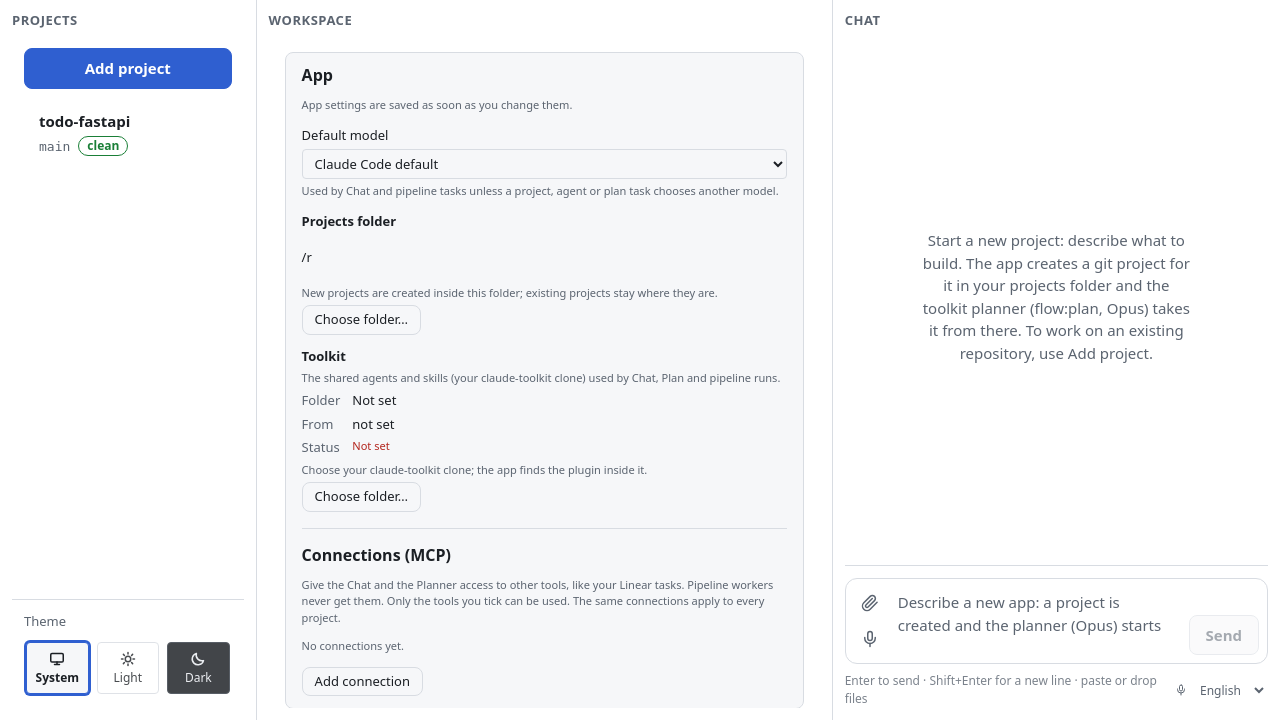
new project to planner flow › shows the latest live pipeline line on the running task
The width and height of the screenshot is (1280, 720).
Click the button "todo-fastapi main clean" at (128, 133), box [24, 101, 232, 165]
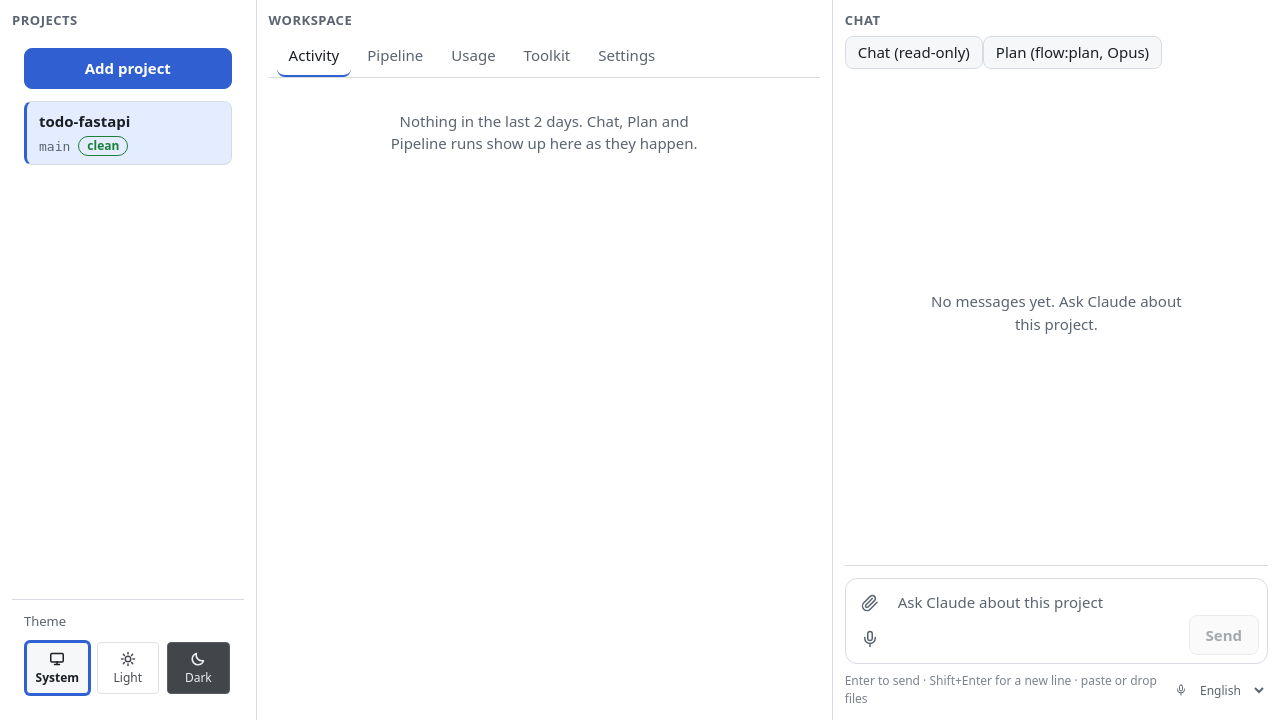
Click the tab "Pipeline" at (395, 57), box [355, 36, 435, 77]
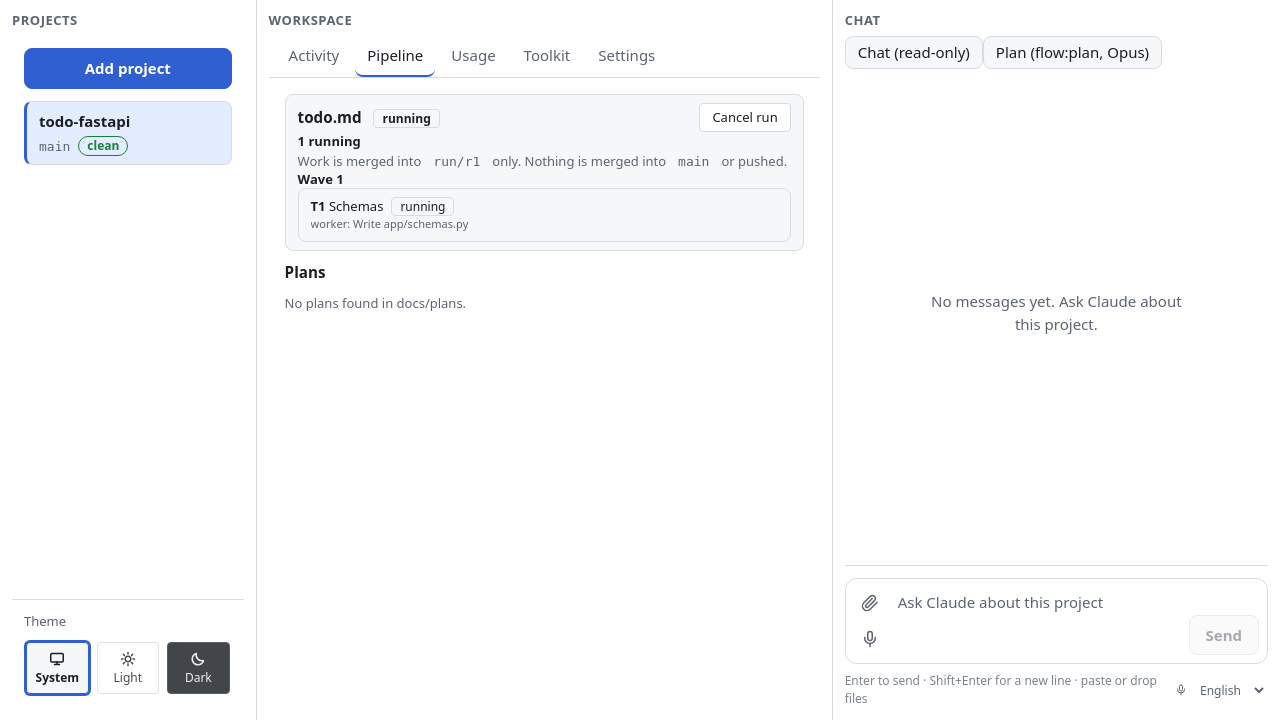
Now the text named "T1 latest" reads "worker: Write app/schemas.py", box [311, 216, 468, 231]
